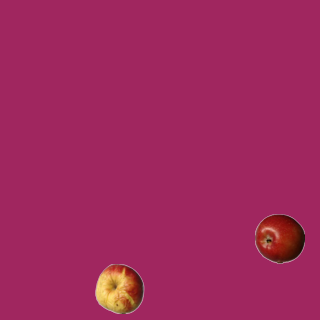Apple Braeburn: (254, 213, 304, 263)
Apple Red Yellow 1: (94, 263, 144, 313)
